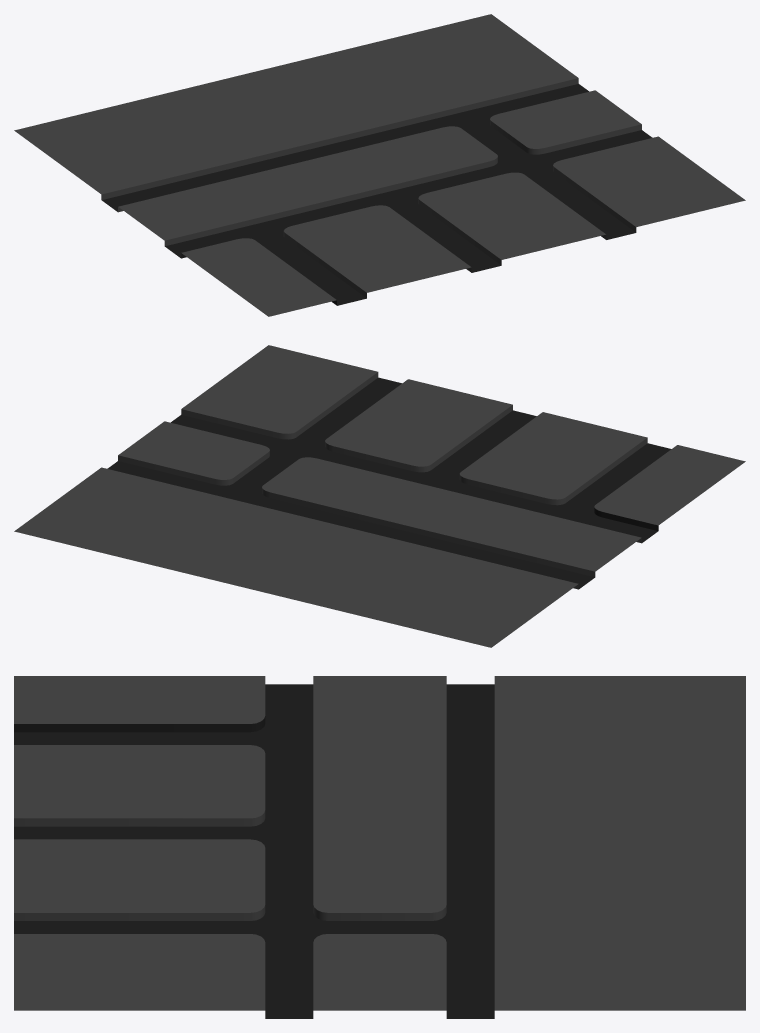
File: Floor_1.fbx
The picture shows the model from 3 angles, top to bottom: view 1: azimuth 30°, elevation 25°; view 2: azimuth 150°, elevation 25°; view 3: azimuth 270°, elevation 25°; orthographic projection. The views are drawn at different scales.
Visible parts, largest first — view 1: Plane.006; view 2: Plane.006; view 3: Plane.006.
Boxes of the visible parts, bbox=[...] form: Plane.006: bbox=[14, 14, 745, 316]; Plane.006: bbox=[14, 345, 745, 647]; Plane.006: bbox=[14, 676, 745, 1018].
Bounding box in the file's own units: 9572 × 109 × 8846.
